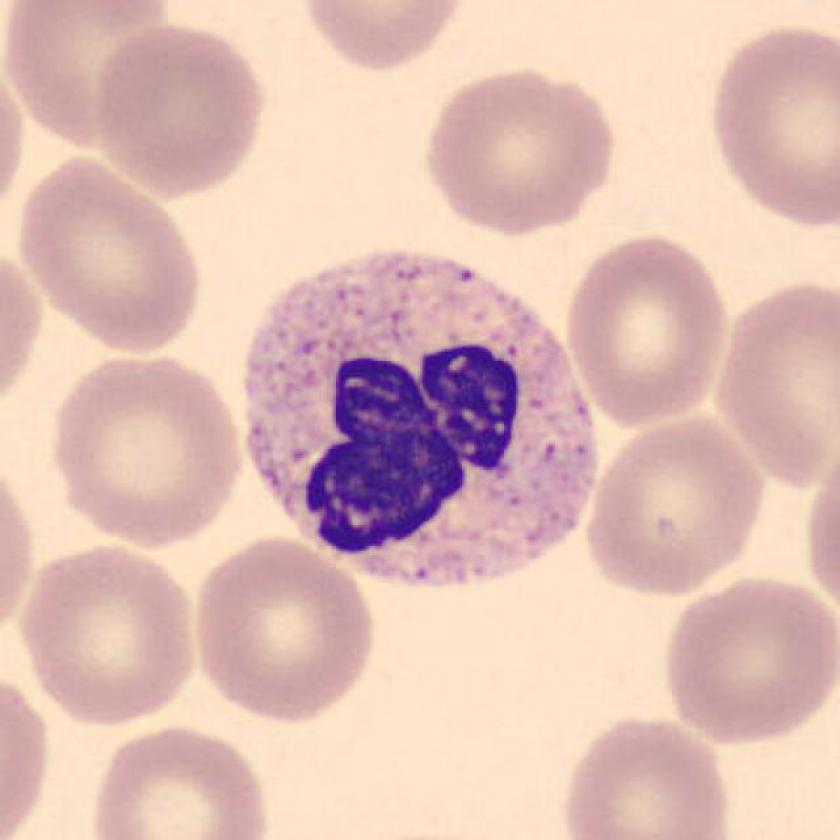neutrophil: (245, 256, 596, 588)
